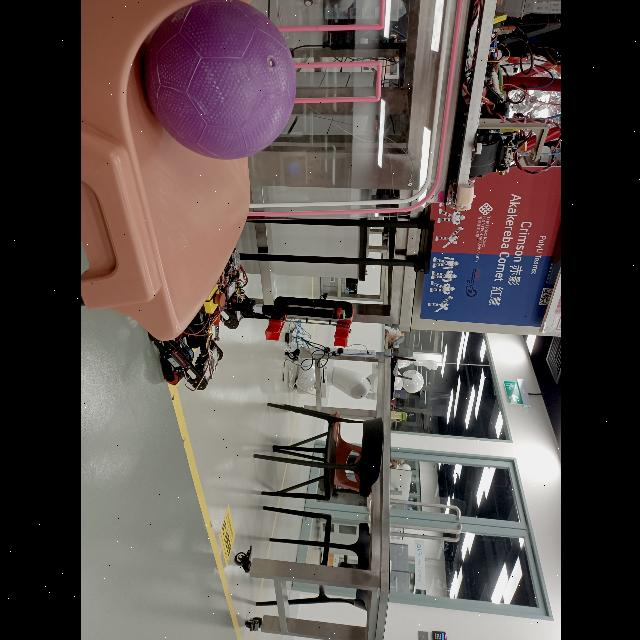P: (134, 0, 296, 160)
